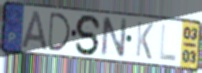A: (20, 9, 49, 53)
D: (48, 11, 73, 53)
K: (134, 20, 155, 62)
L: (158, 22, 178, 63)
N: (100, 16, 129, 60)
S: (74, 14, 104, 57)
